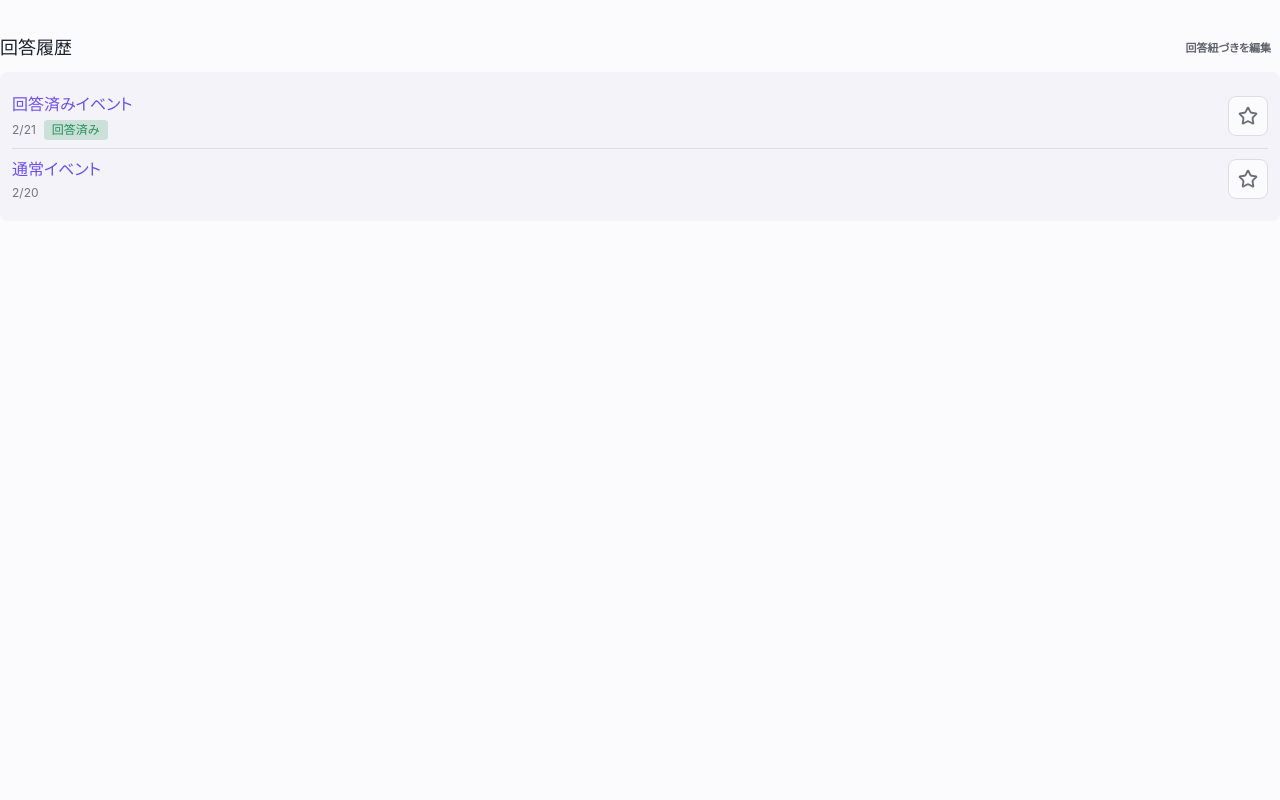
Test: EventHistory › 回答紐づきを解除すると状態を更新する
Click the button with test id "event-history-answer-edit-toggle".
click(1228, 48)  # box top-left (1177, 32), bottom-right (1279, 64)
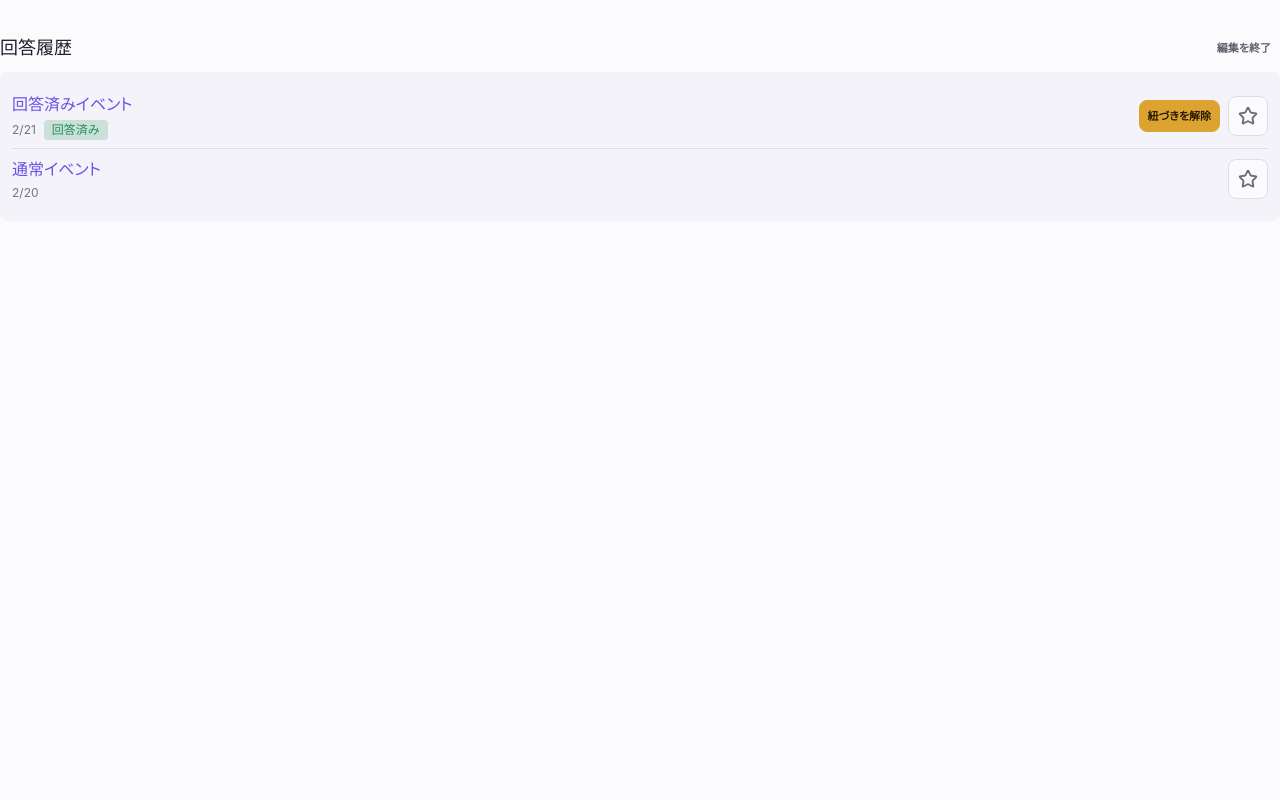
Click the button with test id "event-history-unlink-event-1".
click(1179, 116)  # box top-left (1139, 100), bottom-right (1220, 132)
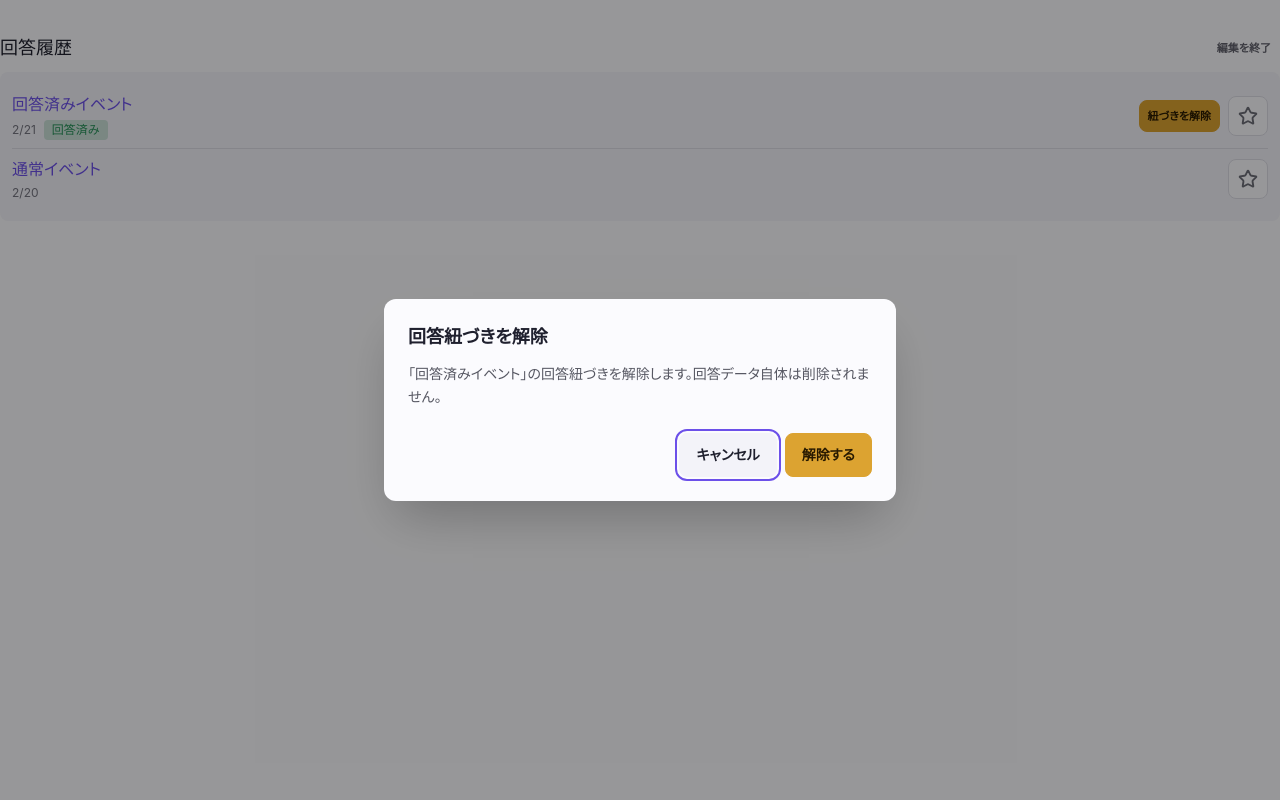
Click the button "解除する".
click(828, 455)  # box top-left (785, 433), bottom-right (872, 477)
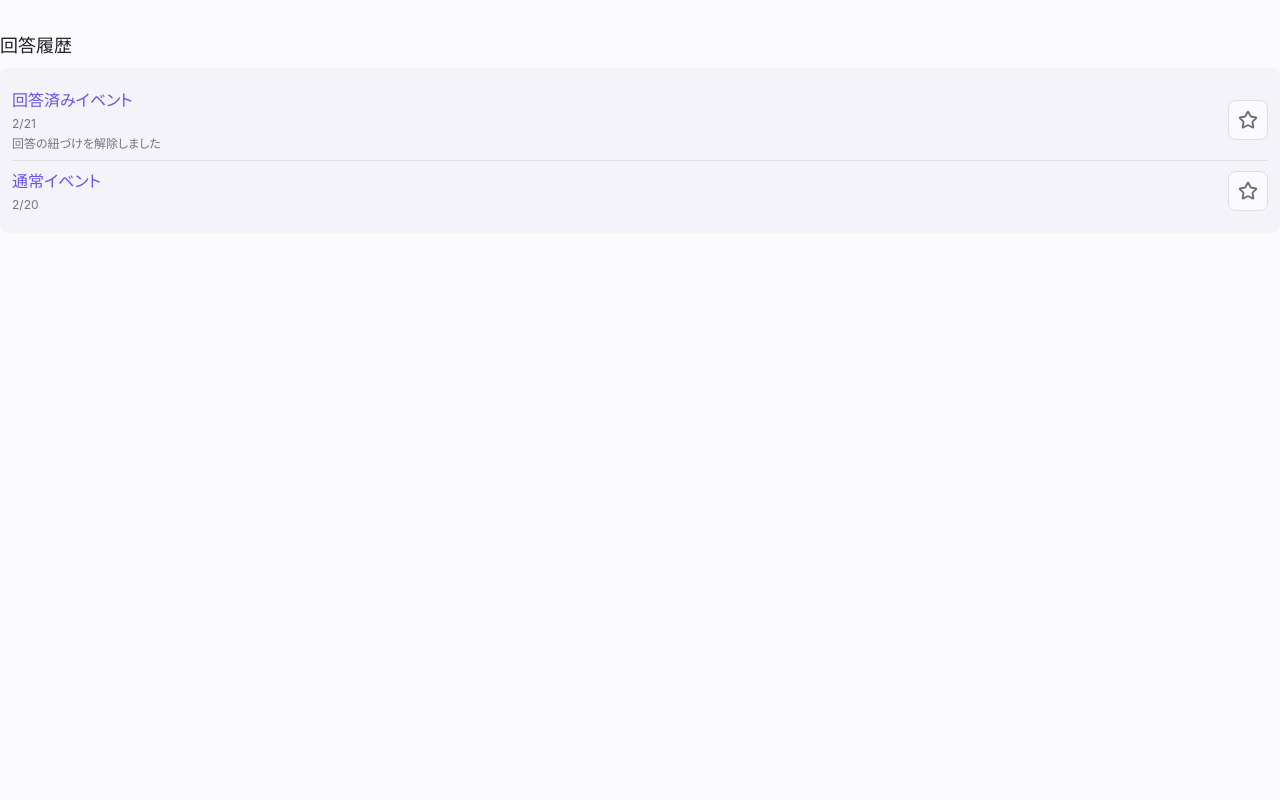
Check: the text "回答の紐づけを解除しました" is shown, box top-left (12, 136), bottom-right (161, 151)
